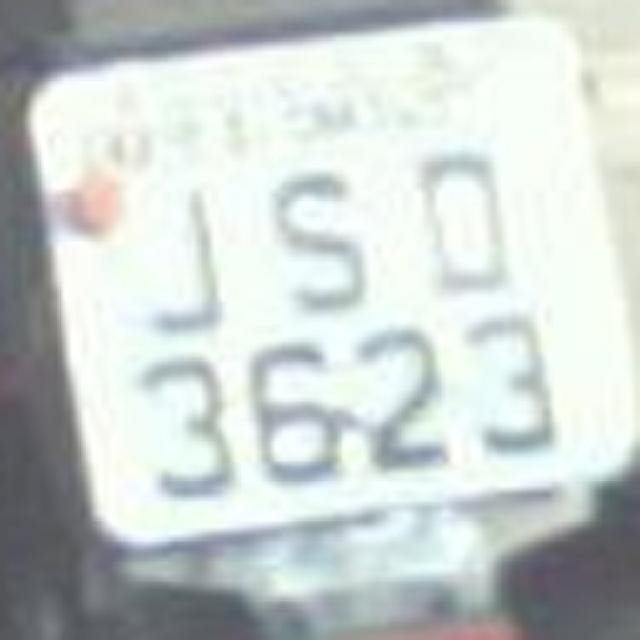2: (320, 296, 488, 489)
3: (96, 328, 272, 520), (432, 280, 600, 465)
6: (216, 311, 389, 504)
J: (115, 172, 240, 352)
O: (396, 124, 524, 308)
S: (248, 152, 380, 320)
